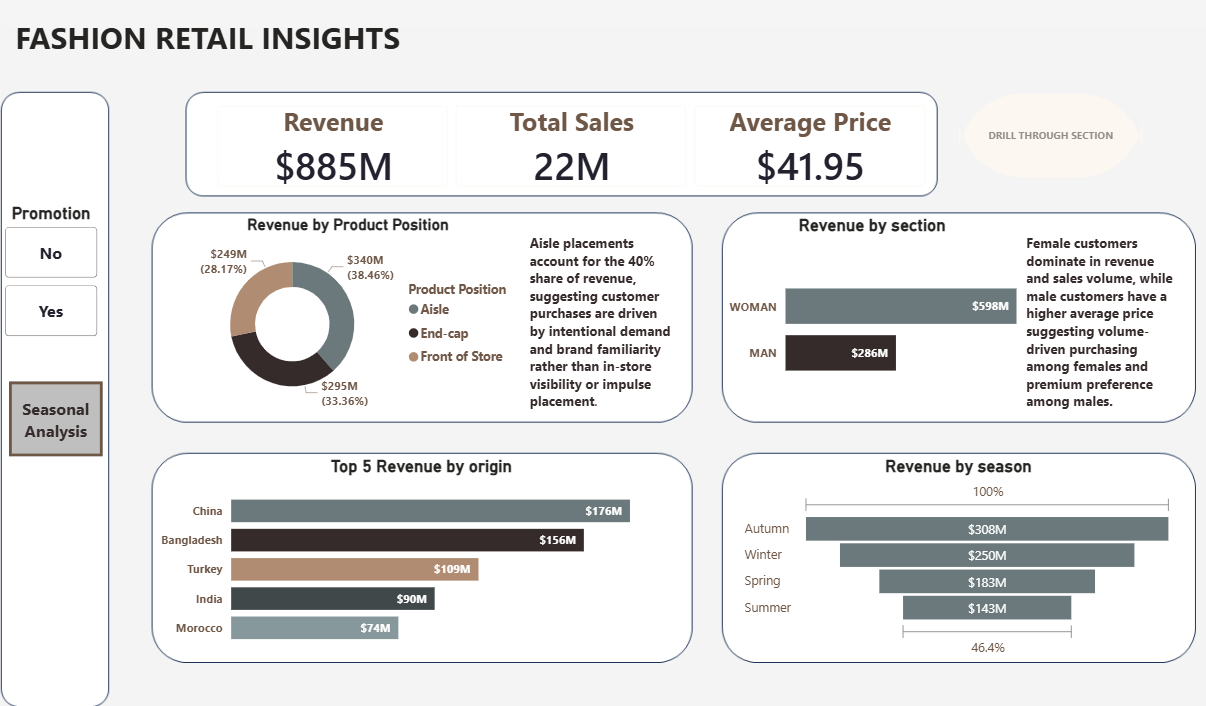

The dashboard page shown, as its layout file describes it:
{"tool":"powerbi","page":{"name":"OVERVIEW","canvas":[1280,800],"ordinal":0},"visuals":[{"type":"cardVisual","fields":{"Data":["Business_sales_EDA.Revenue","Sum(Business_sales_EDA.Sales Volume)","Avg(Business_sales_EDA.price)"]},"box":[213.3,101.9,786.2,121],"z":0},{"type":"funnel","fields":{"Category":["Business_sales_EDA.season"],"Y":["Business_sales_EDA.Revenue"]},"box":[784.6,491.8,464.7,216.5],"z":1000},{"type":"barChart","title":"Revenue by section","fields":{"Category":["Business_sales_EDA.section"],"Y":["Business_sales_EDA.Revenue"],"Series":["Business_sales_EDA.section"]},"box":[767.1,235.5,316.7,216.5],"z":2000},{"type":"advancedSlicerVisual","fields":{"Values":["Business_sales_EDA.Promotion"]},"box":[0,222.3,108.4,146.4],"z":3000},{"type":"barChart","title":"Top 5 Revenue by origin","fields":{"Category":["Business_sales_EDA.origin"],"Y":["Business_sales_EDA.Revenue"],"Series":["Business_sales_EDA.origin"]},"box":[163.9,491.8,566.6,211.7],"z":4000},{"type":"actionButton","title":"DRILL THROUGH SECTION","box":[1017,106.6,195.8,89.1],"z":5000},{"type":"textbox","box":[11.1,18.9,424.7,58.4],"z":6000},{"type":"donutChart","fields":{"Y":["Business_sales_EDA.Revenue"],"Category":["Business_sales_EDA.Product Position"]},"box":[181.4,235.5,375.6,211.7],"z":7000},{"type":"actionButton","box":[9,412.1,99.4,79.5],"z":8000},{"type":"textbox","box":[556.6,249.4,160.8,198.8],"z":9000},{"type":"textbox","box":[1083.8,249.9,165.5,197.4],"z":10000}]}

Visuals, with their boxes on the page's 1280x800 design canvas (x1, y1, x2, y2). These are canvas units, not pixel positions in the 1206x706 screenshot, which may show the page scaled, cropped or inside an application window:
cardVisual - Business_sales_EDA.Revenue x Sum(Business_sales_EDA.Sales Volume): 213,102,1000,223
funnel - Business_sales_EDA.season x Business_sales_EDA.Revenue: 785,492,1249,708
"Revenue by section" barChart: 767,236,1084,452
advancedSlicerVisual - Business_sales_EDA.Promotion: 0,222,108,369
"Top 5 Revenue by origin" barChart: 164,492,730,704
"DRILL THROUGH SECTION" actionButton: 1017,107,1213,196
textbox: 11,19,436,77
donutChart - Business_sales_EDA.Revenue x Business_sales_EDA.Product Position: 181,236,557,447
actionButton: 9,412,108,492
textbox: 557,249,717,448
textbox: 1084,250,1249,447
